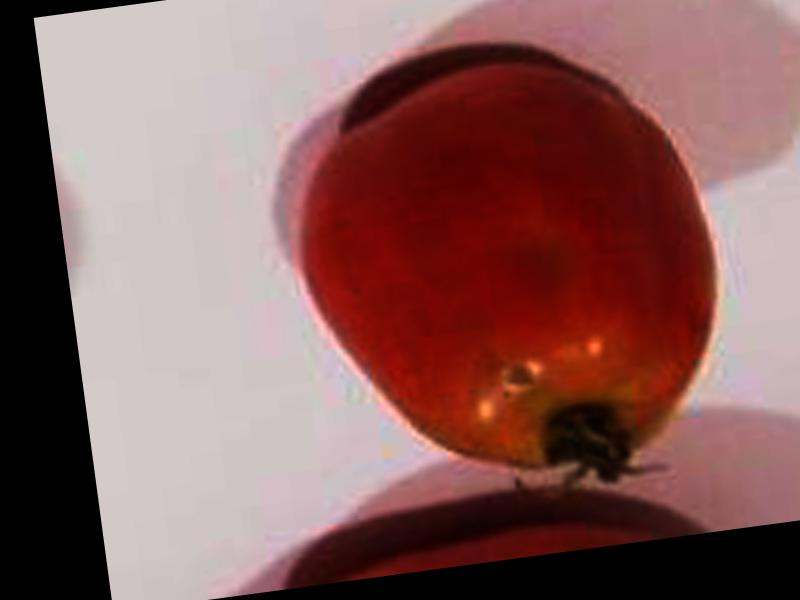Tomato: (282, 46, 736, 501)
